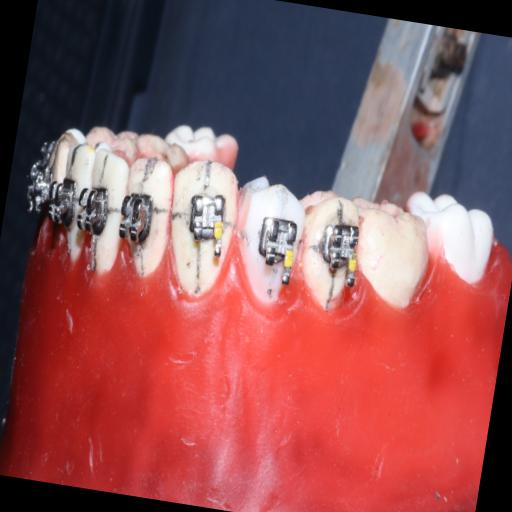correct_brace: (226, 170, 312, 314), (248, 208, 302, 289)
incorrect_brace: (178, 186, 234, 265)
